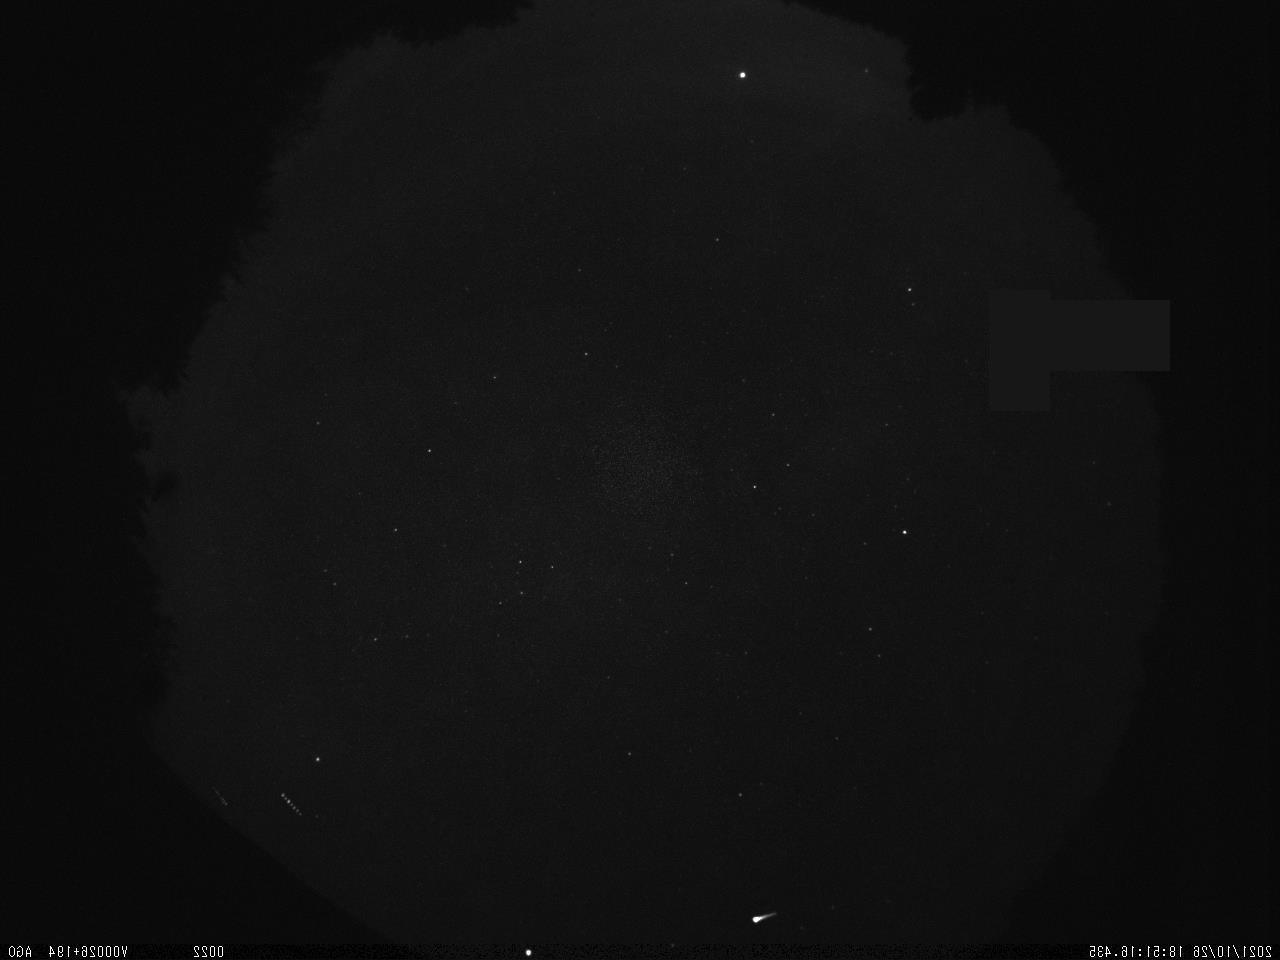meteor: (732, 904, 784, 936)
